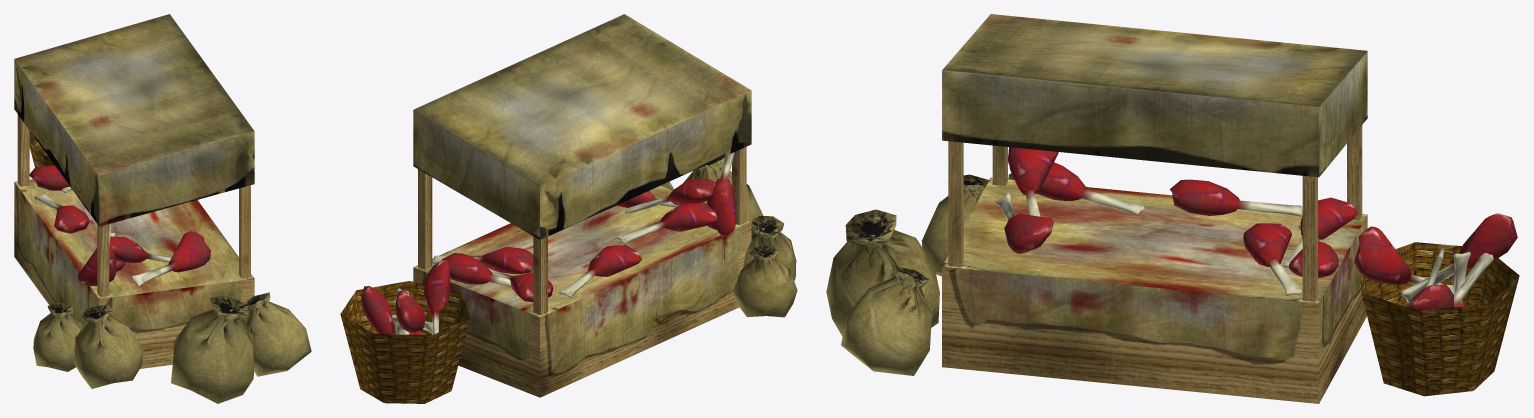
Rendered from meat_store04.fbx.
3 renders of one model, left to right at view 1: azimuth 30°, elevation 25°; view 2: azimuth 150°, elevation 25°; view 3: azimuth 270°, elevation 25°, orthographic. The views are drawn at different scales.
Visible parts, largest first — view 1: stand_meat_8, bag_29, bag_30, bag_32, bag_31, meat_106, meat_110, meat_105, meat_107, meat_112, basket_8; view 2: stand_meat_8, basket_8, bag_31, meat_108, bag_30, meat_110, meat_107, meat_101, meat_111, meat_109, meat_105, meat_99 (+3 smaller); view 3: stand_meat_8, basket_8, bag_32, bag_29, meat_110, meat_101, meat_100, bag_30, meat_111, meat_105, meat_108, meat_106 (+4 smaller).
Part boxes in pixels (x1,y1,x2,y2): stand_meat_8: (14,14,254,368); bag_29: (171,295,254,403); bag_30: (73,305,143,388); bag_32: (243,292,311,376); bag_31: (33,302,82,371); meat_106: (131,231,210,287); meat_110: (34,194,89,233); meat_105: (97,236,171,263); meat_107: (77,223,116,285); meat_112: (29,165,69,190); basket_8: (29,131,54,166); stand_meat_8: (413,14,751,397); basket_8: (340,281,470,403); bag_31: (733,246,797,317); meat_108: (616,203,717,244); bag_30: (743,216,796,280); meat_110: (559,245,641,297); meat_107: (707,152,735,237); meat_101: (423,259,450,334); meat_111: (432,246,533,273); meat_109: (442,253,511,286); meat_105: (625,179,715,213); meat_99: (361,286,394,334); stand_meat_8: (942,14,1367,403); basket_8: (1360,242,1519,396); bag_32: (841,264,931,375); bag_29: (826,209,939,336); meat_110: (1170,179,1302,216); meat_101: (1354,226,1453,292); meat_100: (1401,213,1517,302); bag_30: (922,174,989,276); meat_111: (1243,223,1302,296); meat_105: (1008,147,1058,241); meat_108: (1036,162,1144,215); meat_106: (995,192,1053,253).
Size of the model in its own units: 67.98 by 58.16 by 118.
